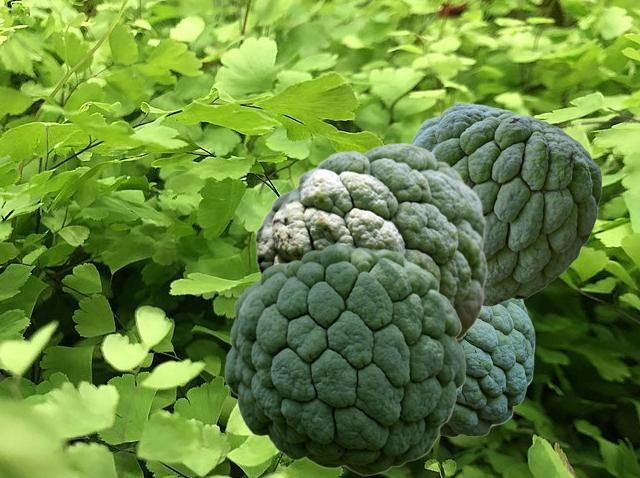atis: (224, 243, 465, 475), (254, 142, 487, 340), (411, 102, 601, 305), (440, 299, 534, 436)
